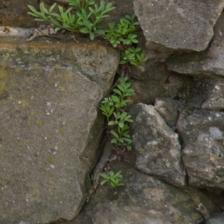Crack: (14, 43, 117, 147), (32, 118, 106, 171), (66, 95, 119, 124)
